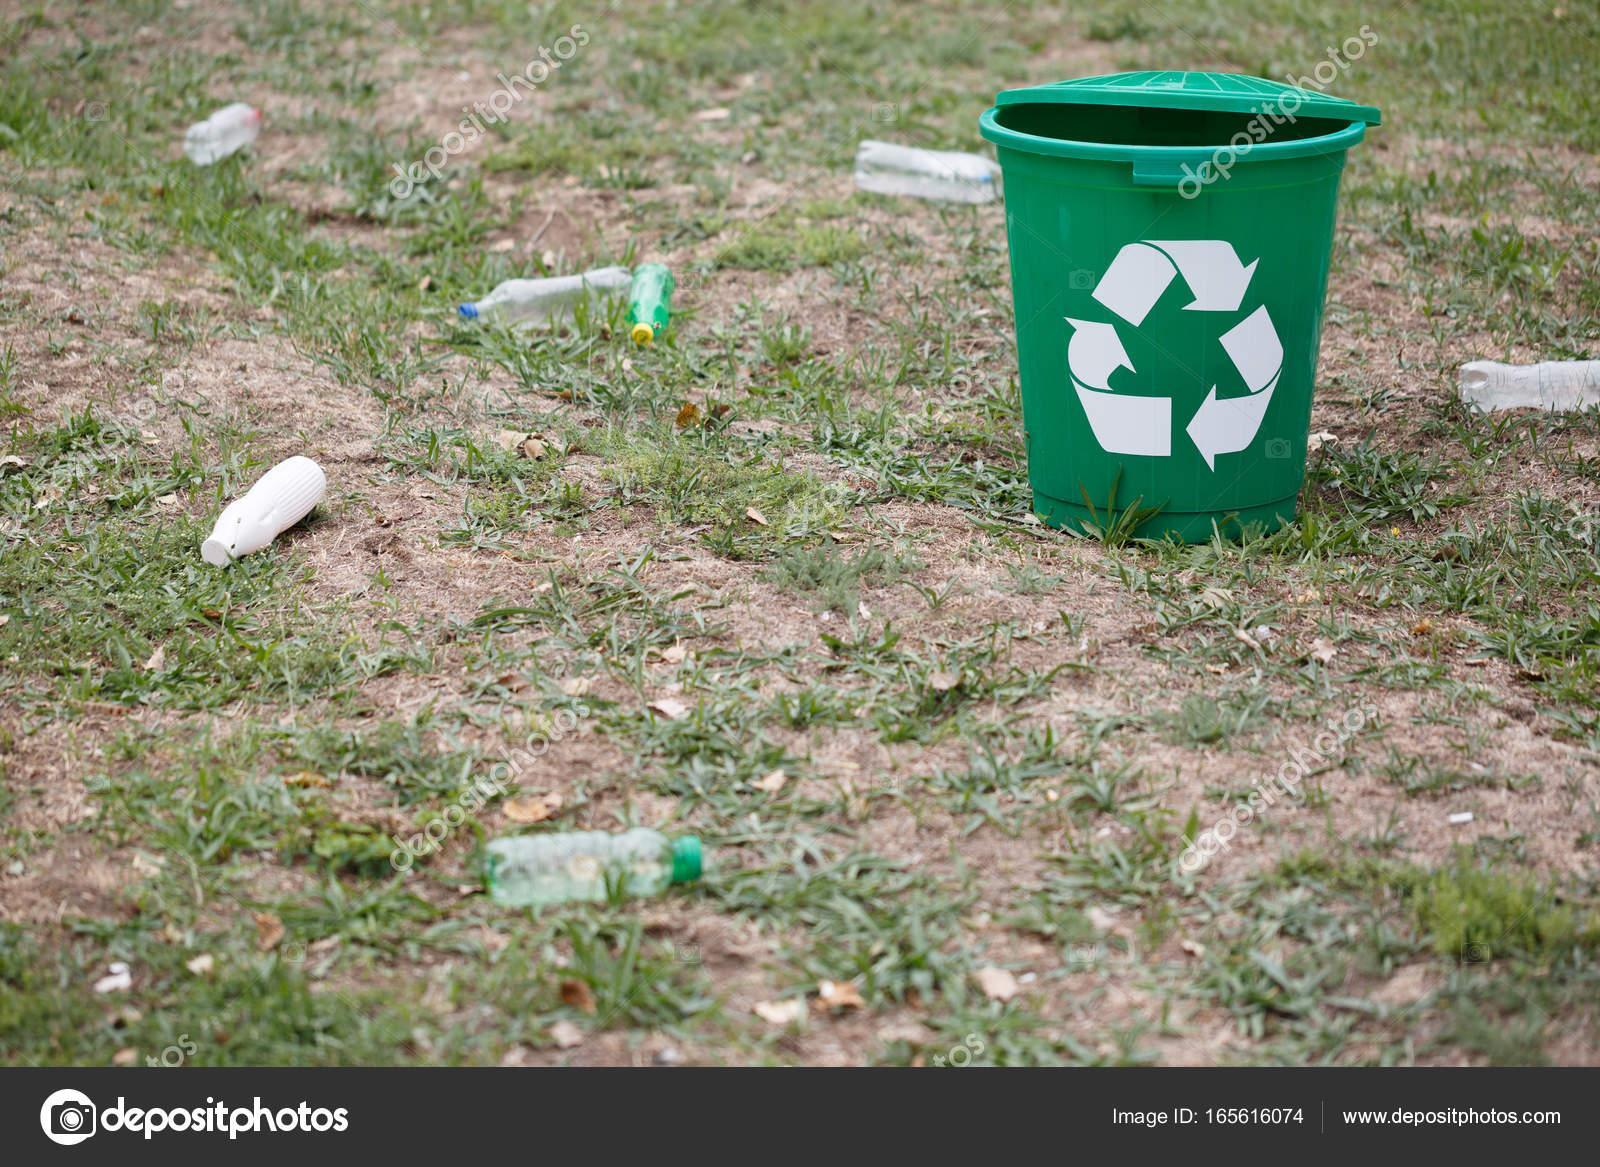bottle: (467, 829, 707, 911), (190, 409, 333, 542), (453, 16, 616, 98), (847, 130, 1005, 213), (1446, 317, 1600, 387), (171, 80, 272, 178), (622, 12, 676, 119)
